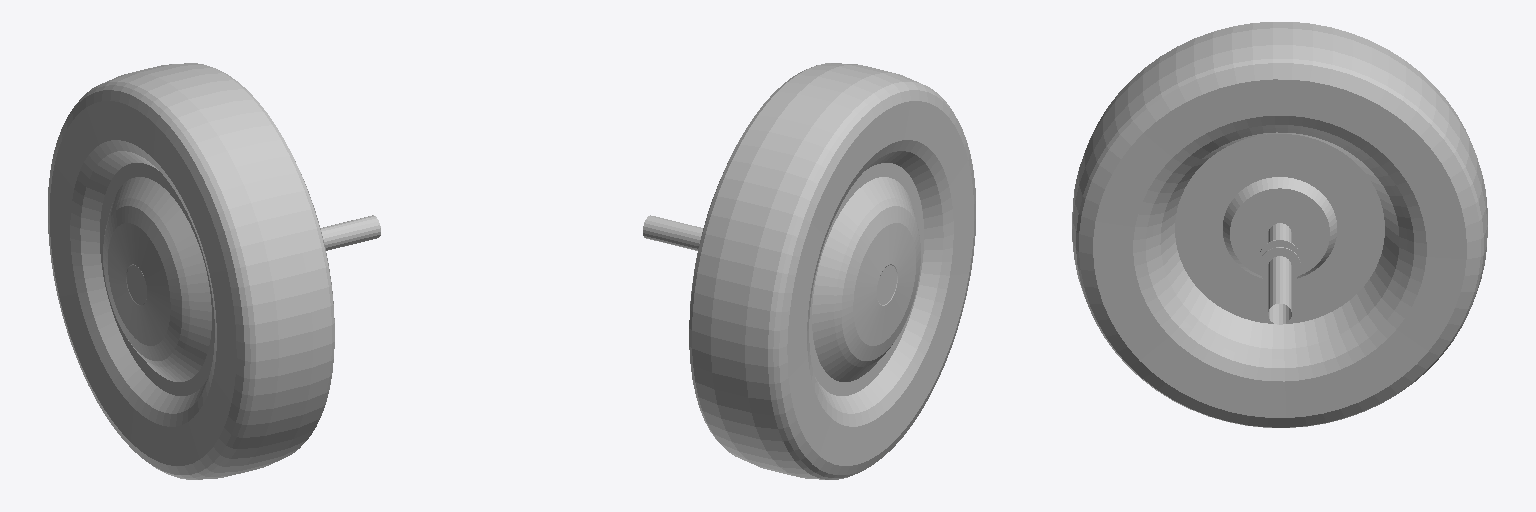
Rendered from vocho_rueda3.obj.
3 views of the same model, side by side, from view 1: azimuth 30°, elevation 25°; view 2: azimuth 150°, elevation 25°; view 3: azimuth 270°, elevation 25° (orthographic).
Parts seen in each view (by area): view 1: VW_Beetle.075_Cube.076; view 2: VW_Beetle.075_Cube.076; view 3: VW_Beetle.075_Cube.076.
Boxes of the visible parts, box(x1,y1,x2,y2) form: VW_Beetle.075_Cube.076: box(48, 63, 380, 479); VW_Beetle.075_Cube.076: box(643, 63, 975, 479); VW_Beetle.075_Cube.076: box(1072, 22, 1487, 427).
Size of the model in its own units: 0.4407 by 0.6645 by 0.6645.